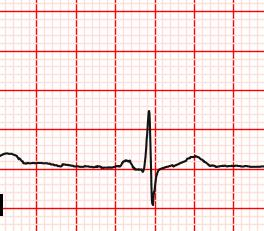ST Depression: (134, 162, 171, 208)
